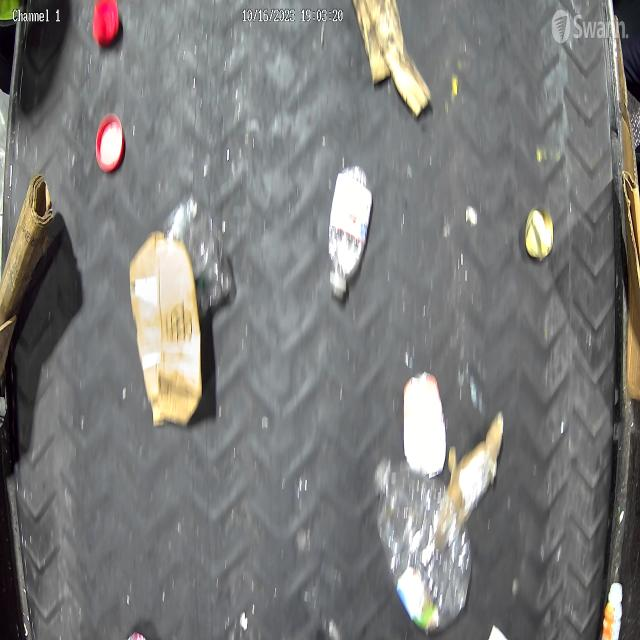can: (401, 368, 448, 482), (524, 206, 554, 260)
plastic_bottle: (372, 458, 473, 632)
